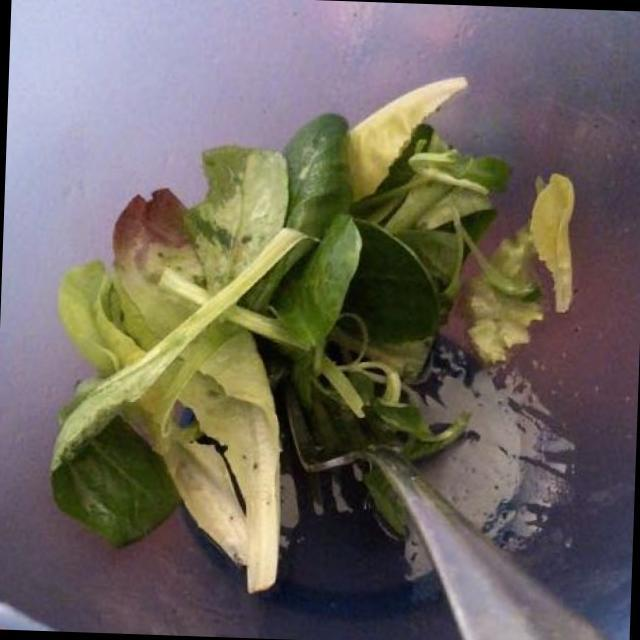Green Salad: (47, 76, 570, 566)
